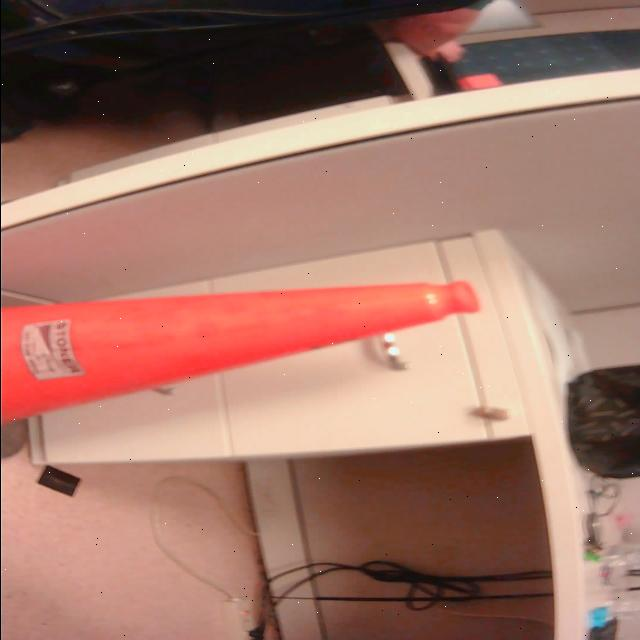traffic cone: (2, 275, 490, 465)
